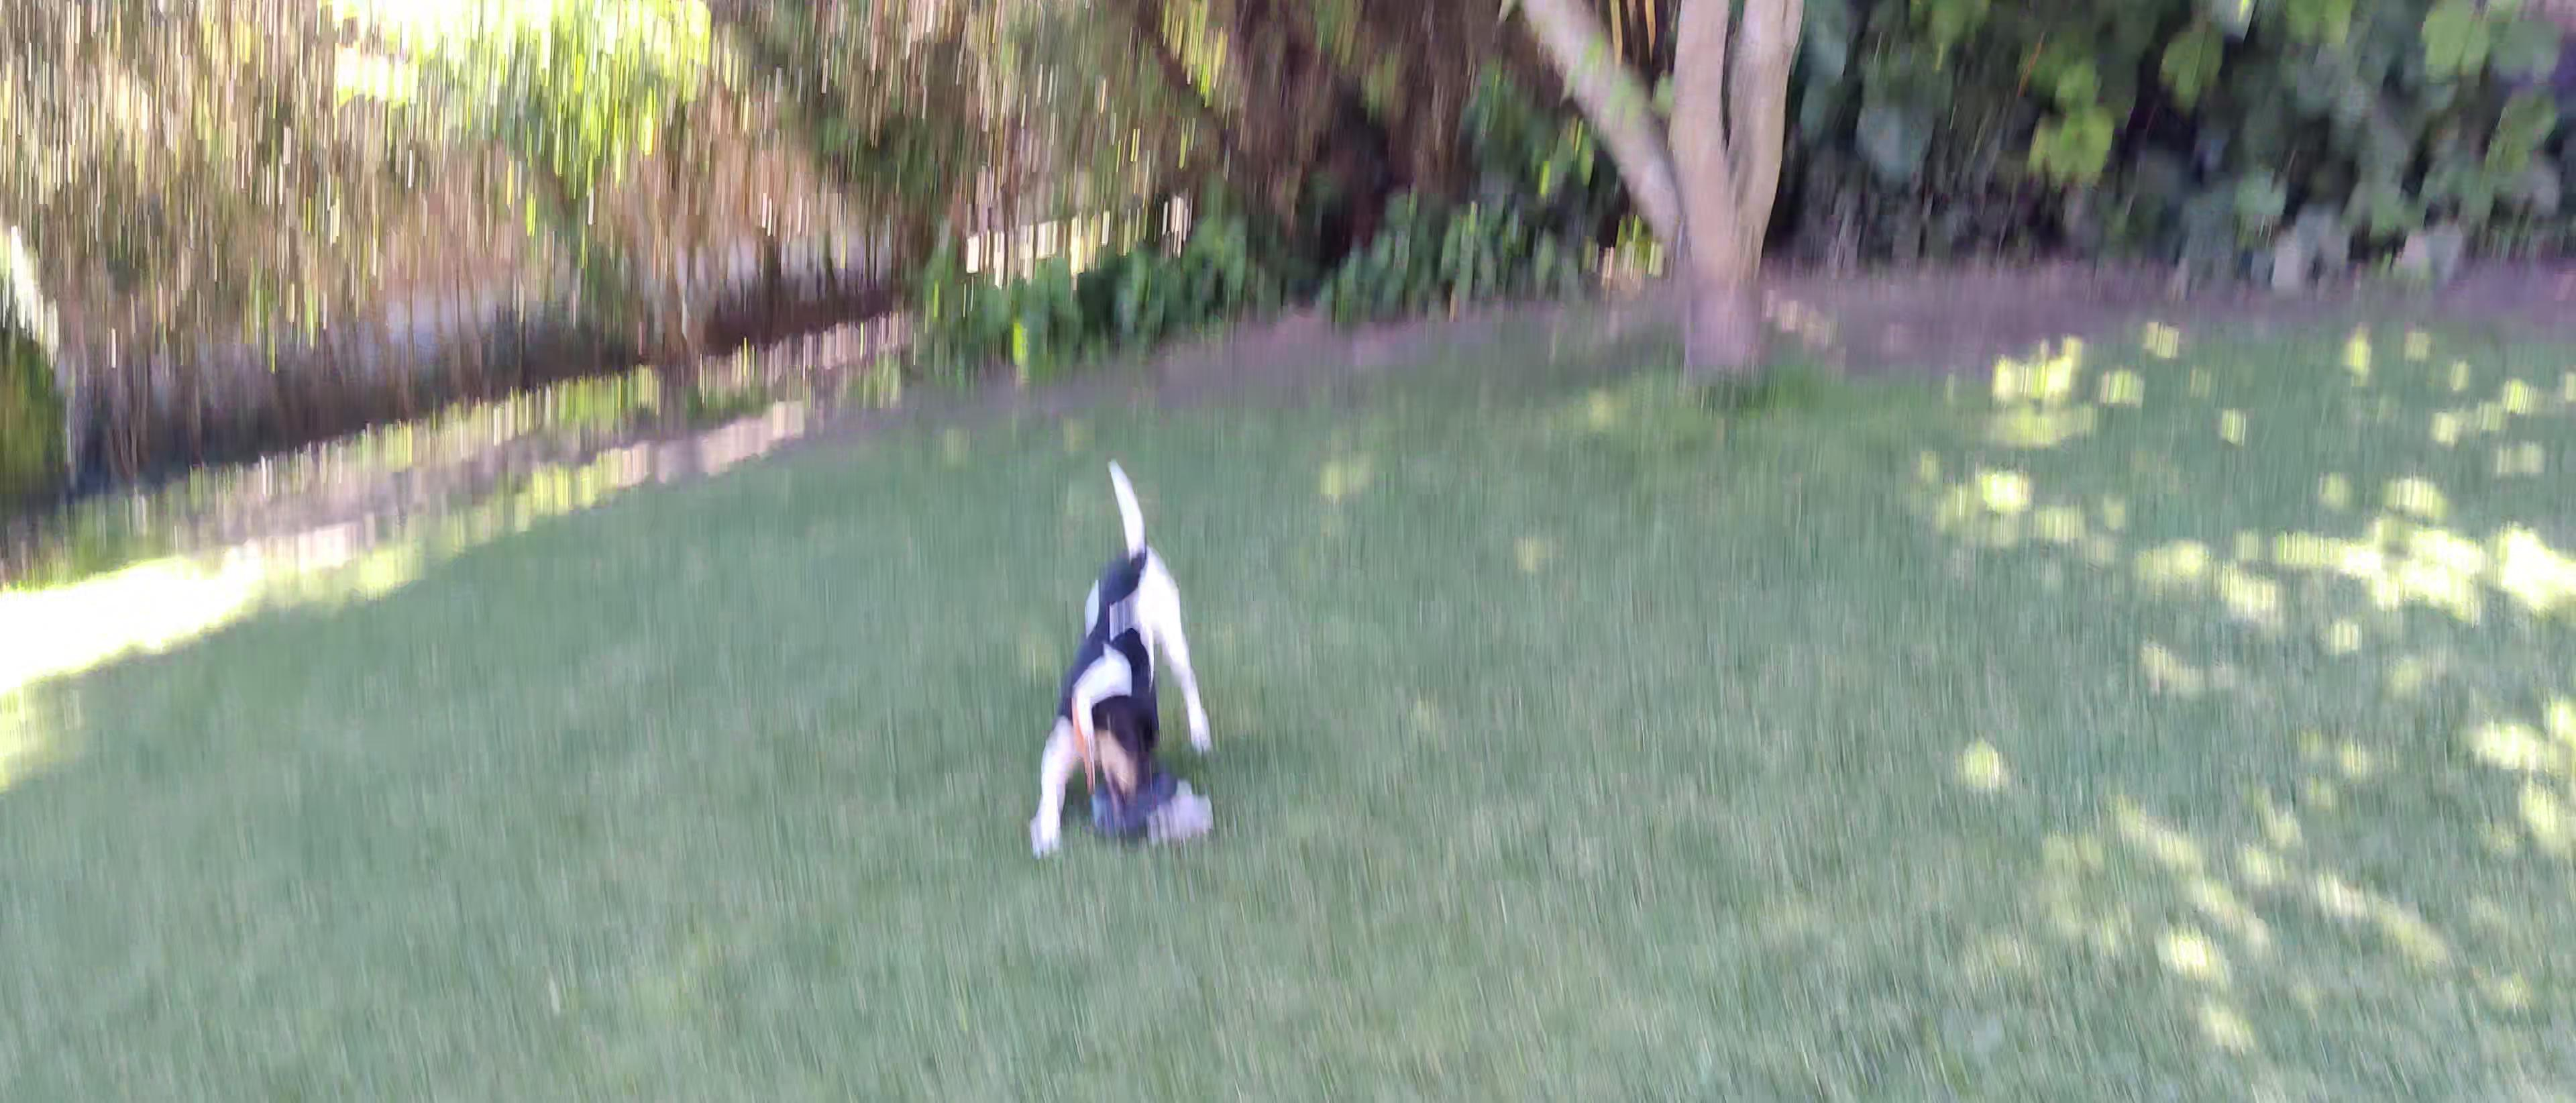Dog: (1012, 449, 1216, 868)
